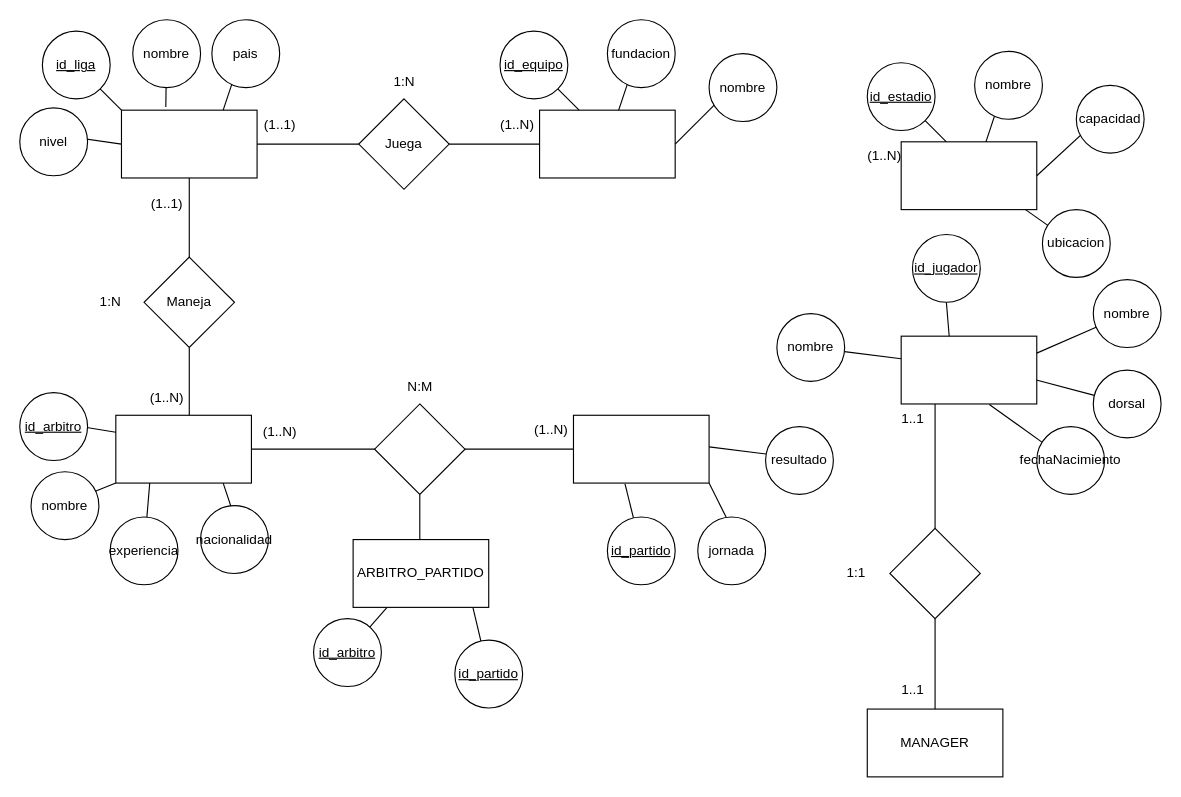
Image size: 1181x797. Some labels were removed from this diagram. The centre of each missing label's shape, as x and y in pixels:
"ARBITRO" goes at (183,448).
"EQUIPO" goes at (606,143).
"ESTADIO" goes at (968,175).
"JUGADOR" goes at (968,369).
"LIGA" goes at (188,143).
"PARTIDO" goes at (640,448).
"Supervisa" goes at (419,448).
"Tiene" goes at (934,573).
